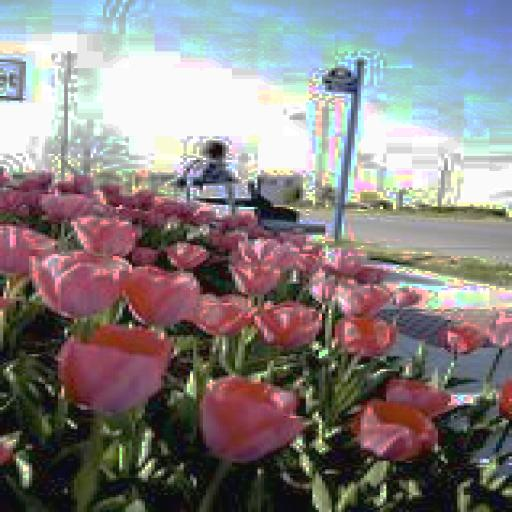tulip: (196, 376, 303, 470), (64, 318, 168, 412), (36, 246, 126, 326), (351, 399, 438, 463), (116, 265, 203, 324), (64, 211, 142, 258), (386, 375, 460, 414), (258, 300, 316, 346), (335, 316, 399, 356), (193, 292, 258, 329), (338, 282, 393, 314), (245, 237, 299, 269), (232, 262, 280, 296), (42, 190, 93, 220), (326, 244, 370, 278), (441, 324, 490, 354), (170, 237, 212, 269)
